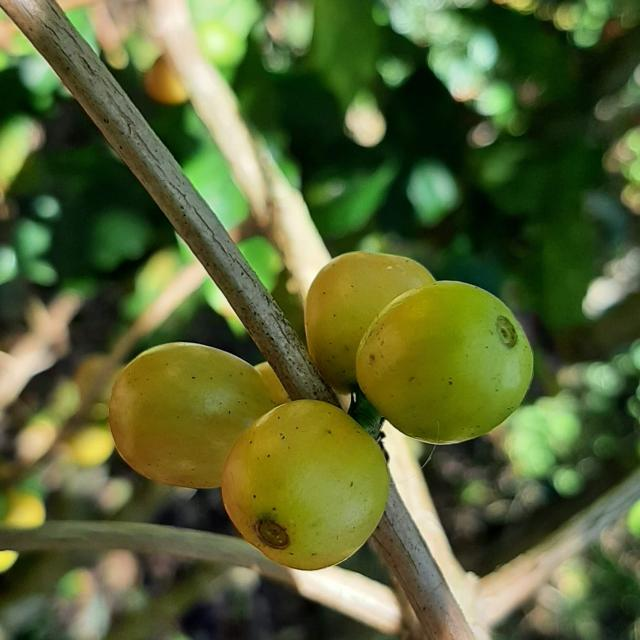yellow: (356, 281, 534, 445), (221, 401, 390, 571), (108, 343, 275, 489), (305, 251, 435, 394)
